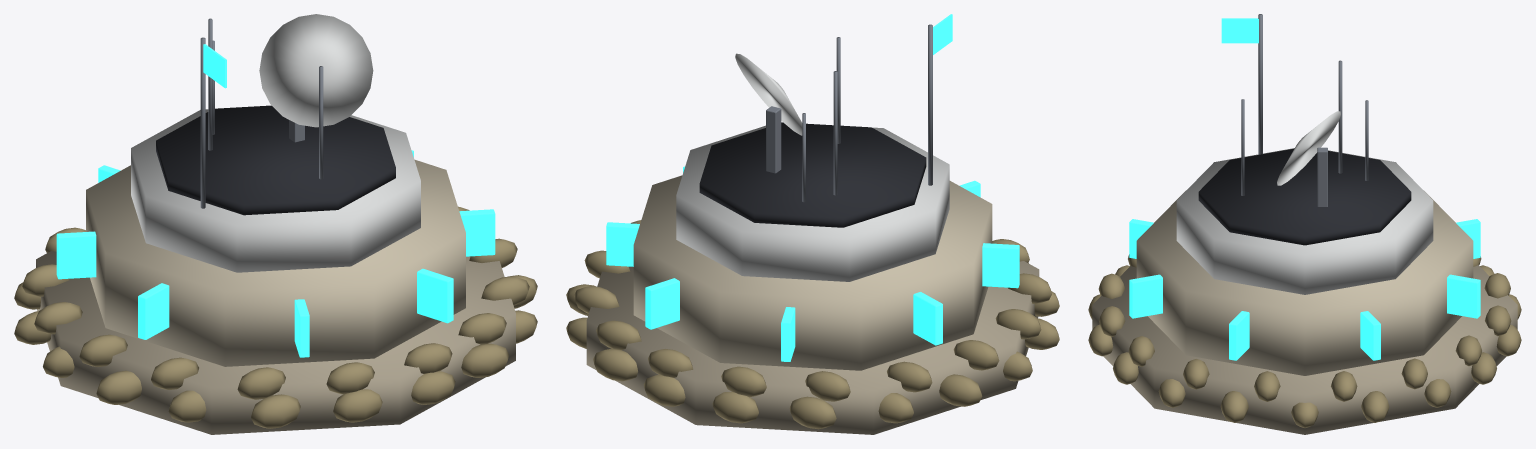
Rendered from nexus_blue.glb.
3 views of the same model, side by side, from view 1: azimuth 30°, elevation 25°; view 2: azimuth 150°, elevation 25°; view 3: azimuth 270°, elevation 25° (orthographic). The views are drawn at different scales.
Parts seen in each view (by area): view 1: tier1, part_white, foot, part_sand, roof, part_cyan, part_steel; view 2: tier1, foot, part_white, part_sand, roof, part_cyan, part_steel; view 3: tier1, foot, part_white, roof, part_sand, part_cyan, part_steel.
Part boxes in pixels (x1,y1,x2,y2): tier1: [86, 159, 465, 366]; part_white: [131, 14, 420, 272]; foot: [36, 251, 515, 434]; part_sand: [14, 206, 537, 428]; roof: [156, 105, 395, 215]; part_cyan: [56, 44, 495, 357]; part_steel: [200, 18, 323, 208]; tier1: [633, 175, 992, 370]; foot: [586, 261, 1039, 434]; part_white: [676, 53, 949, 281]; part_sand: [566, 220, 1059, 429]; roof: [699, 122, 926, 227]; part_cyan: [606, 14, 1019, 361]; part_steel: [766, 24, 932, 202]; tier1: [1136, 191, 1473, 375]; foot: [1092, 265, 1517, 434]; part_white: [1176, 111, 1433, 294]; roof: [1198, 148, 1411, 245]; part_sand: [1088, 254, 1521, 427]; part_cyan: [1129, 18, 1480, 360]; part_steel: [1241, 14, 1368, 206].
Bounding box in the file's own units: 5.2 × 3.6 × 4.89.
